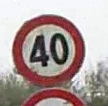limite 40: (9, 13, 86, 85)
